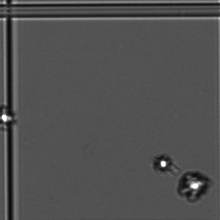Living Cell: (174, 166, 214, 202), (151, 150, 178, 174), (1, 103, 20, 137)
